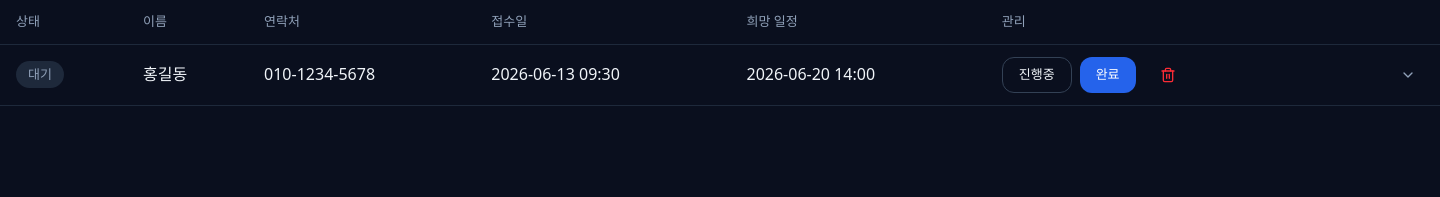
Test: ReservationTable › 아래 화살표로 상세(제작종류·업종·추가요청사항) 펼침
Expected: the text "빠른 상담 원해요" is not shown
Click the button named "상세 보기" at (1408, 74), box [1392,58,1424,90]
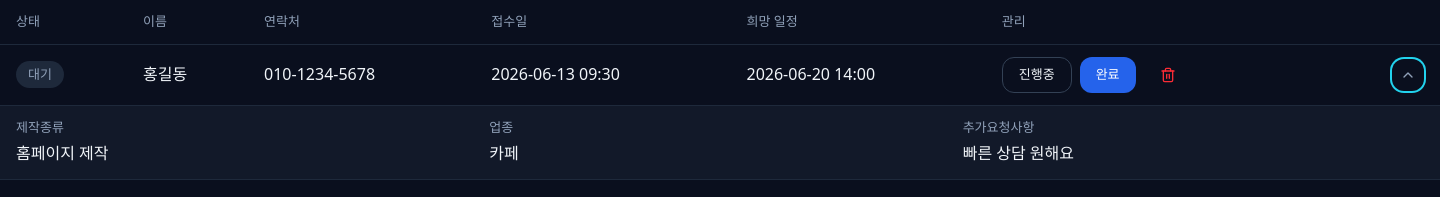
Expected: the text "빠른 상담 원해요" is shown, [963,142,1074,164]
Expected: the text "홈페이지 제작" is shown, [16,142,108,164]
